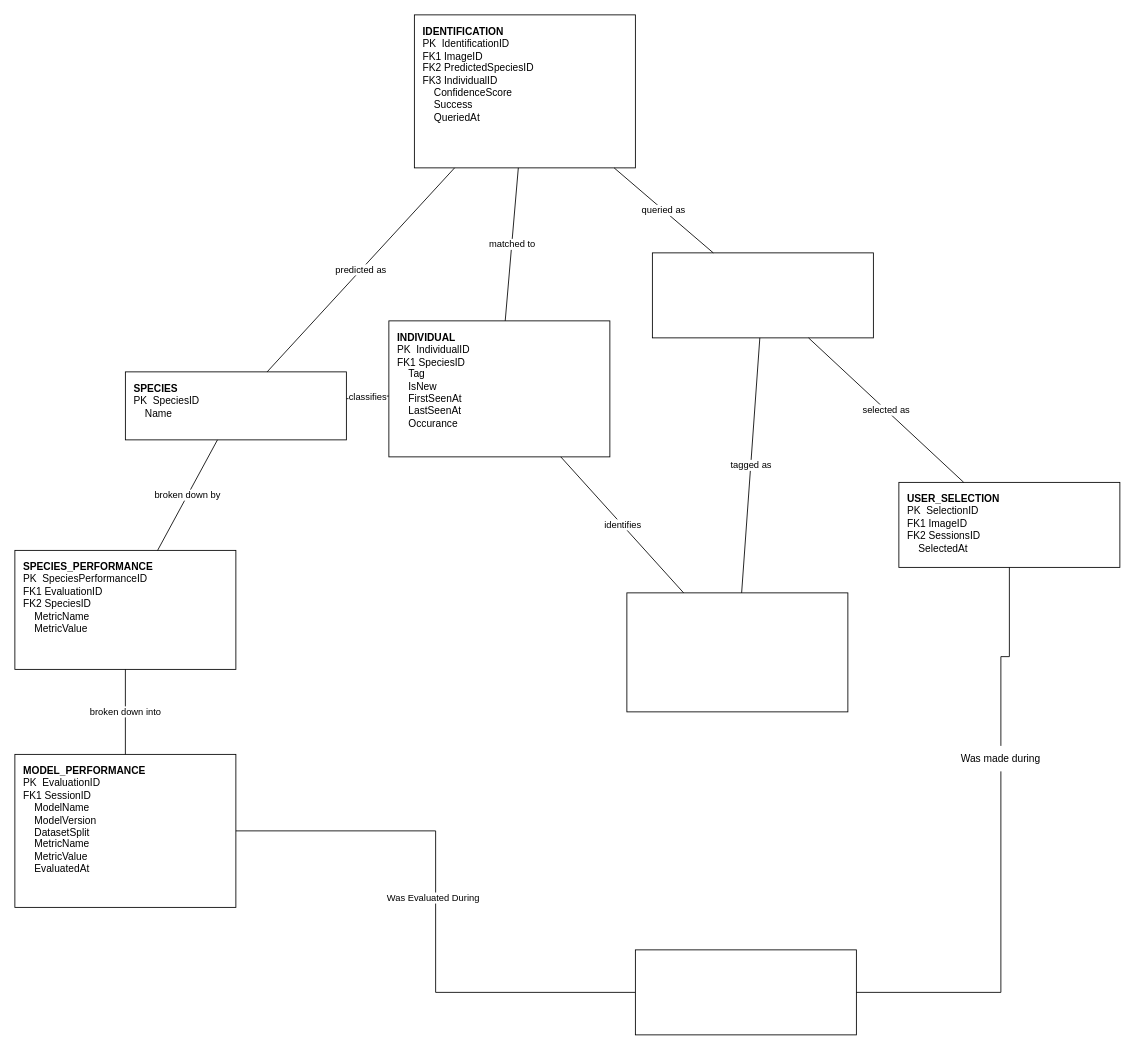
This 1135x1050 diagram has some shape labels left out. Here are the shapes that lost their labels. From the top down, the centre of each, then its label:
At point (762, 295): "IMAGE PK ImageID Path UploadedAt".
At point (737, 652): "LABEL PK LabelID FK1 ImageID FK2 IndividualID Path CreatedAt".
At point (745, 992): "Session ID PK SelectionID StartAt EndedAt".
